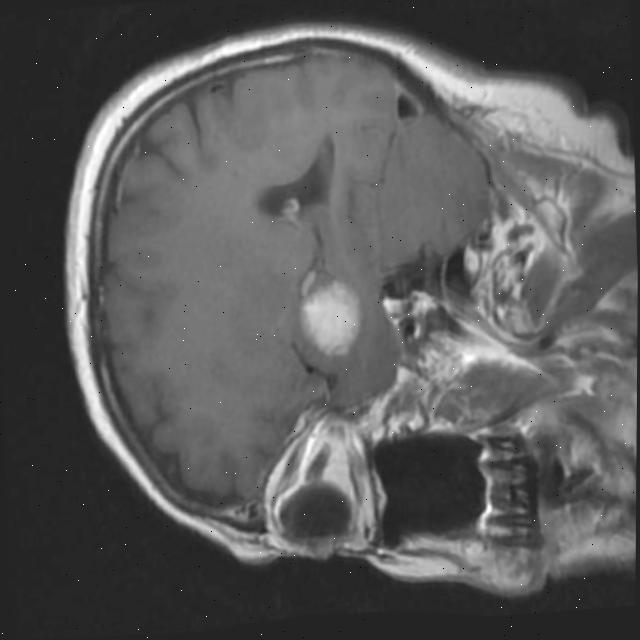Meningioma: (297, 276, 363, 358)
